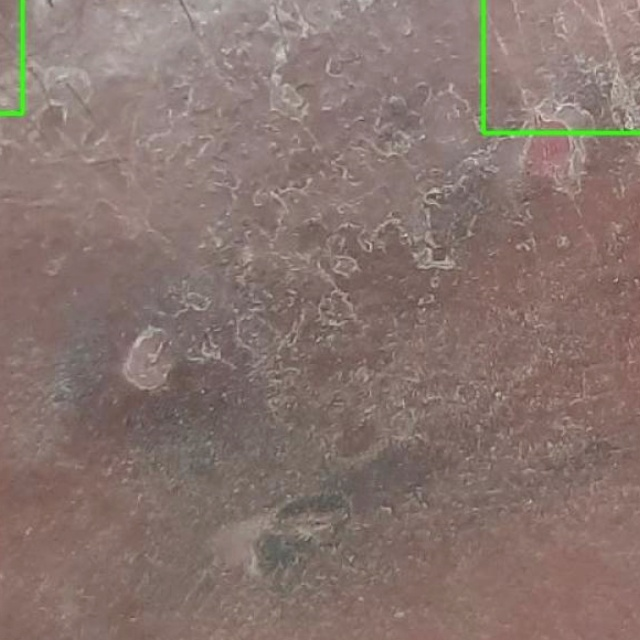Eczema: (483, 0, 639, 132)
